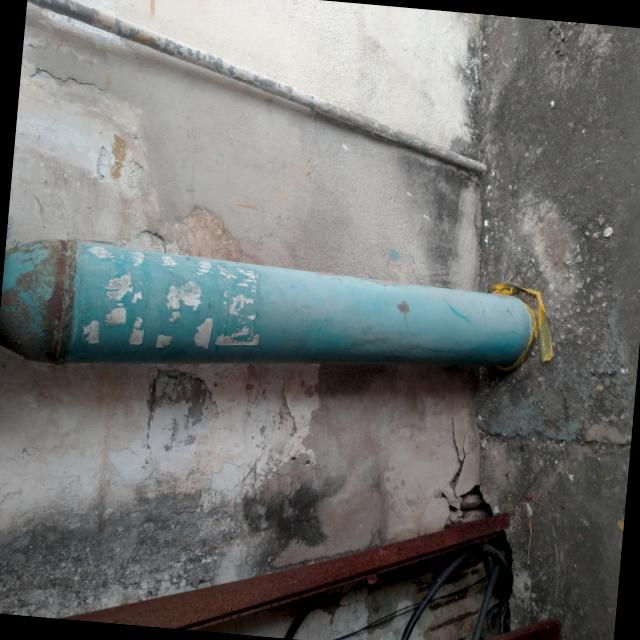gas: (29, 0, 494, 178), (0, 234, 529, 371)
